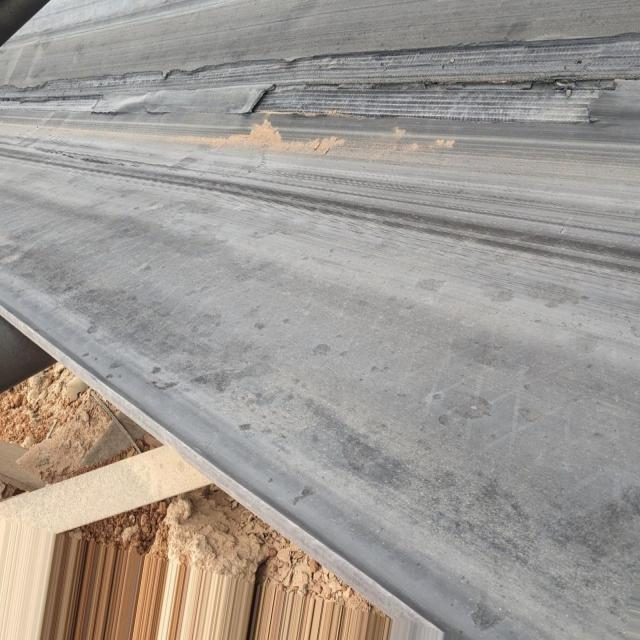Tear: (0, 34, 627, 120)
